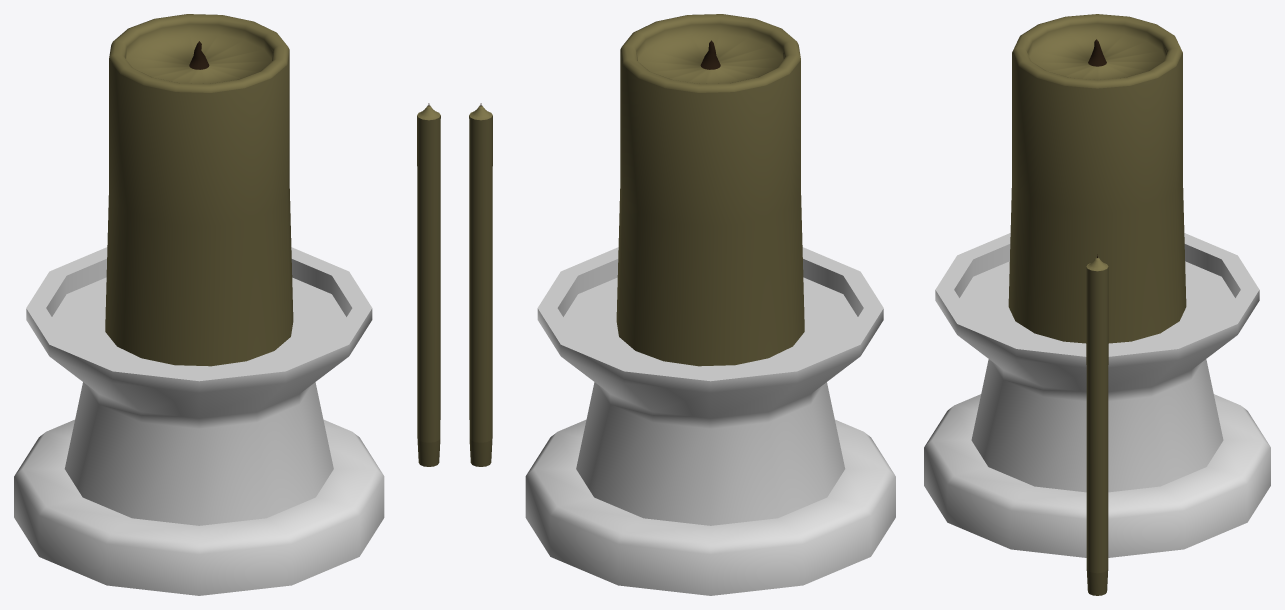
Rendered from Vela.fbx.
3 views of the same model, side by side, from view 1: azimuth 30°, elevation 25°; view 2: azimuth 150°, elevation 25°; view 3: azimuth 270°, elevation 25° (orthographic). The views are drawn at different scales.
Parts seen in each view (by area): view 1: SM_BaseVela, SM_Vela_01, SM_Vela_02; view 2: SM_BaseVela, SM_Vela_01, SM_Vela_02; view 3: SM_BaseVela, SM_Vela_01, SM_Vela_02.
Part boxes in pixels (x1,y1,x2,y2): SM_BaseVela: [14, 247, 384, 595]; SM_Vela_01: [105, 14, 293, 366]; SM_Vela_02: [417, 103, 440, 466]; SM_BaseVela: [525, 247, 895, 595]; SM_Vela_01: [616, 14, 804, 366]; SM_Vela_02: [469, 103, 492, 466]; SM_BaseVela: [924, 233, 1270, 557]; SM_Vela_01: [1008, 14, 1186, 343]; SM_Vela_02: [1086, 254, 1108, 595].
Size of the model in its own units: 17.93 by 20.47 by 14.36.
